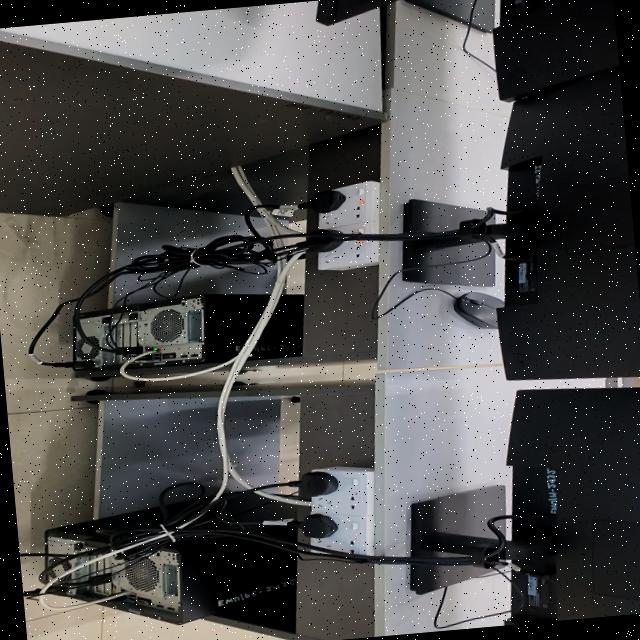Cpu: (104, 536, 295, 623), (81, 293, 269, 375), (45, 507, 163, 546), (249, 293, 302, 356), (75, 333, 123, 379), (224, 492, 286, 521)
Monitor: (500, 64, 640, 378), (507, 386, 640, 620), (493, 0, 619, 100)
Mouse: (454, 291, 504, 328)
